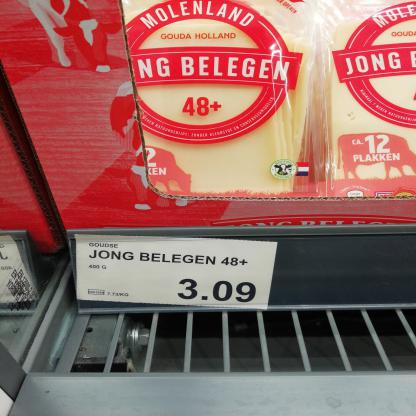prtg: (76, 235, 279, 311)
